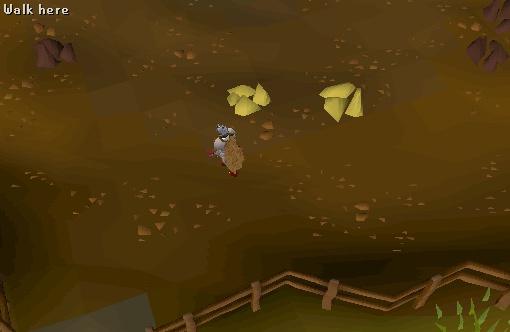gold: (312, 77, 373, 128), (214, 72, 275, 123)
iron: (27, 32, 83, 76)
